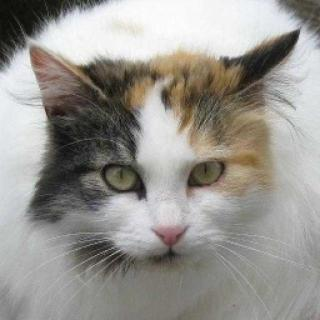cat: (22, 37, 306, 271)
nose: (146, 211, 191, 249)
